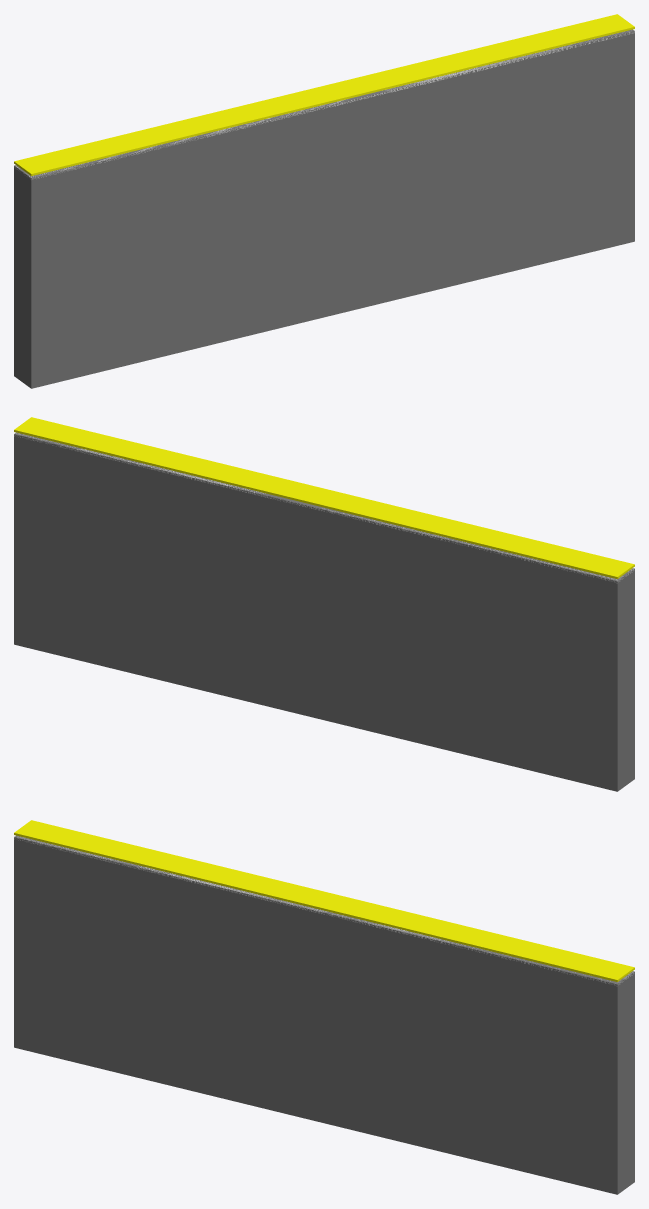
Rendered from Hộp đèn hút nổi vuông 60.obj.
3 renders of one model, top to bottom at view 1: azimuth 30°, elevation 25°; view 2: azimuth 150°, elevation 25°; view 3: azimuth 330°, elevation 25°, orthographic.
Parts seen in each view (by area): view 1: khung_sat_do, den_led, be_mat_bien; view 2: khung_sat_do, den_led, be_mat_bien; view 3: khung_sat_do, den_led, be_mat_bien.
Part boxes in pixels (<box>): khung_sat_do: <box>14,29,634,388</box>; den_led: <box>14,14,634,175</box>; be_mat_bien: <box>14,31,634,179</box>; khung_sat_do: <box>14,432,634,791</box>; den_led: <box>14,417,634,578</box>; be_mat_bien: <box>14,433,633,583</box>; khung_sat_do: <box>14,835,634,1194</box>; den_led: <box>14,820,634,981</box>; be_mat_bien: <box>14,836,633,986</box>.
Size of what is drawn, in the model's own units: 3 by 1.02 by 0.15.
